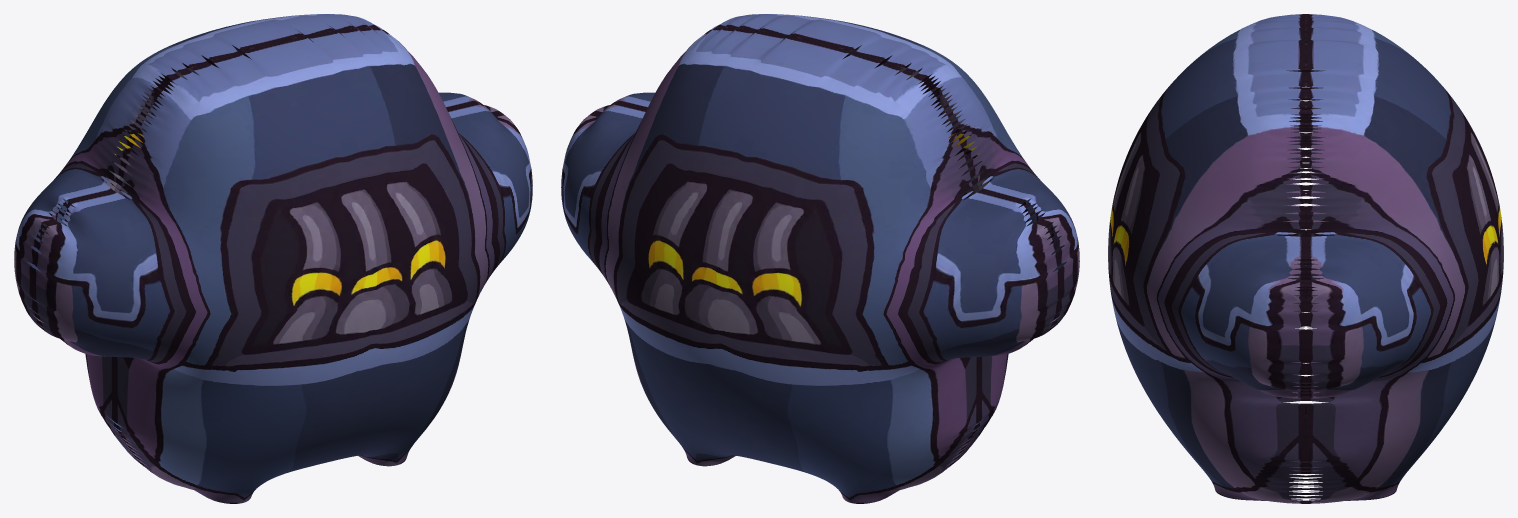
File: junction_box.glb
3 views of the same model, side by side, from view 1: azimuth 30°, elevation 25°; view 2: azimuth 150°, elevation 25°; view 3: azimuth 270°, elevation 25° (orthographic). The views are drawn at different scales.
Visible parts, largest first — view 1: junction_box; view 2: junction_box; view 3: junction_box.
Part boxes in pixels (box(x1,y1,x2,y2)): junction_box: box(14, 14, 532, 503); junction_box: box(561, 14, 1079, 503); junction_box: box(1108, 14, 1503, 503).
Size of the model in its own units: 0.9889 by 0.7989 by 0.7193.
1 material, 1 textured.
